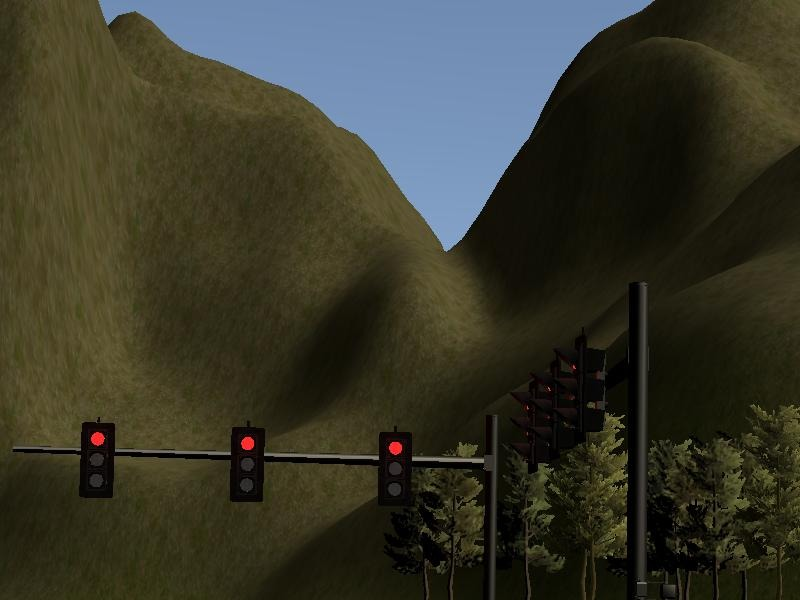red: (79, 422, 115, 497), (377, 431, 413, 506), (229, 426, 265, 501)
